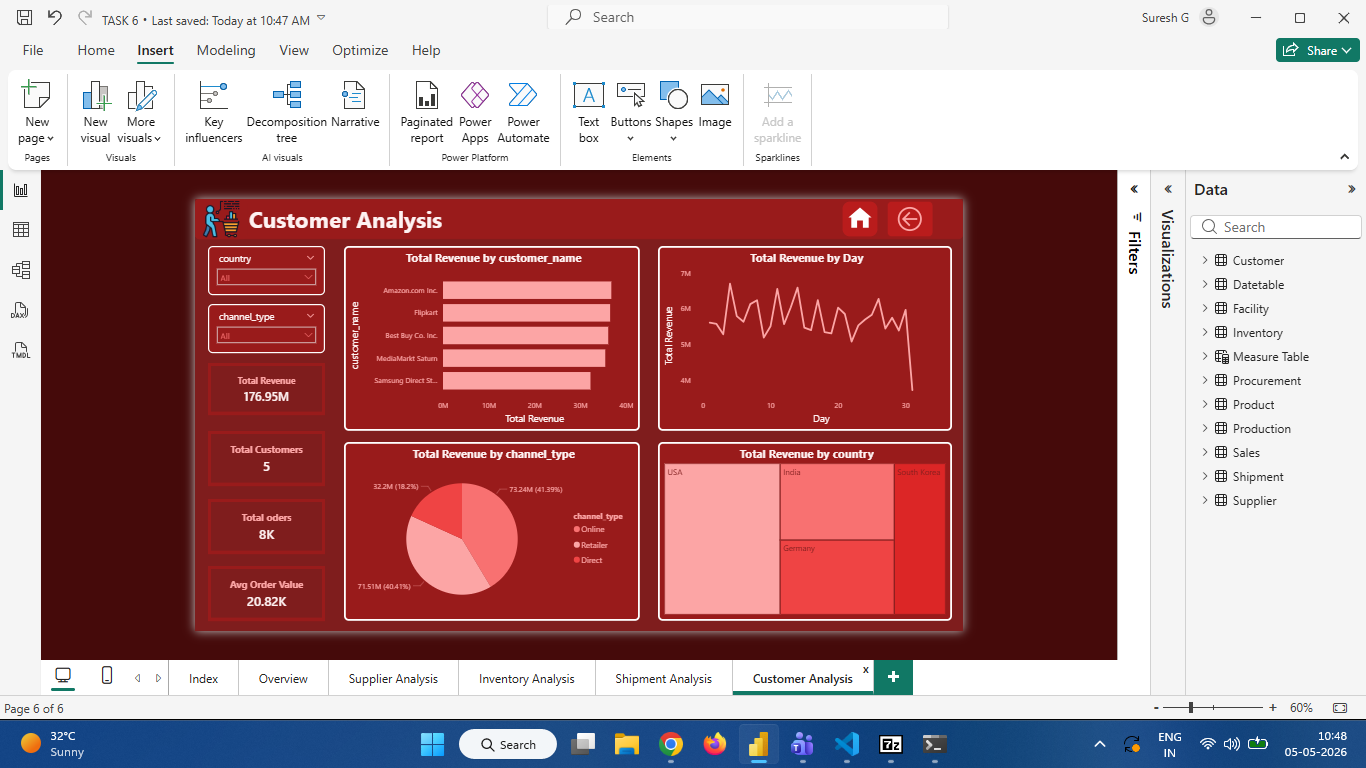

The dashboard page shown, as its layout file describes it:
{"tool":"powerbi","page":{"name":"Customer Analysis","canvas":[1280,720],"ordinal":5},"visuals":[{"type":"textbox","box":[0,0,1280,66.7],"z":0},{"type":"cardVisual","fields":{"Data":["Measure Table.Total Customers"]},"box":[21.7,386.7,195,91.7],"z":1},{"type":"cardVisual","fields":{"Data":["Measure Table.Total oders"]},"box":[21.7,500,195,91.7],"z":2},{"type":"cardVisual","fields":{"Data":["Measure Table.Avg Order Value"]},"box":[21.7,611.7,195,91.7],"z":3},{"type":"clusteredBarChart","fields":{"Category":["Customer.customer_name"],"Y":["Measure Table.Total Revenue"]},"box":[248.3,78.3,493.3,308.3],"z":4},{"type":"pieChart","fields":{"Category":["Customer.channel_type"],"Y":["Measure Table.Total Revenue"]},"box":[248.3,405,493.3,298.3],"z":5},{"type":"lineChart","fields":{"Y":["Measure Table.Total Revenue"],"Category":["Datetable.date.Variation.Date Hierarchy.Year","Datetable.date.Variation.Date Hierarchy.Quarter","Datetable.date.Variation.Date Hierarchy.Month","Datetable.date.Variation.Date Hierarchy.Day"]},"box":[771.7,78.3,490,308.3],"z":6},{"type":"treemap","fields":{"Values":["Measure Table.Total Revenue"],"Group":["Customer.country"]},"box":[771.7,405,490,298.3],"z":7},{"type":"slicer","fields":{"Values":["Customer.country"]},"box":[21.7,78.3,195,81.7],"z":8},{"type":"slicer","fields":{"Values":["Customer.channel_type"]},"box":[21.7,175,195,81.7],"z":9},{"type":"cardVisual","fields":{"Data":["Measure Table.Total Revenue"]},"box":[21.7,273.3,195,86.7],"z":10},{"type":"image","box":[0,0,86.7,66.7],"z":11},{"type":"actionButton","box":[1153.3,3.3,76.7,60],"z":12},{"type":"image","box":[1063.3,3.3,90,60],"z":13}]}

Visuals, with their boxes on the page's 1280x720 design canvas (x1, y1, x2, y2). These are canvas units, not pixel positions in the 1366x768 screenshot, which may show the page scaled, cropped or inside an application window:
textbox: {"x1": 0, "y1": 0, "x2": 1280, "y2": 67}
cardVisual - Measure Table.Total Customers: {"x1": 22, "y1": 387, "x2": 217, "y2": 478}
cardVisual - Measure Table.Total oders: {"x1": 22, "y1": 500, "x2": 217, "y2": 592}
cardVisual - Measure Table.Avg Order Value: {"x1": 22, "y1": 612, "x2": 217, "y2": 703}
clusteredBarChart - Customer.customer_name x Measure Table.Total Revenue: {"x1": 248, "y1": 78, "x2": 742, "y2": 387}
pieChart - Customer.channel_type x Measure Table.Total Revenue: {"x1": 248, "y1": 405, "x2": 742, "y2": 703}
lineChart - Measure Table.Total Revenue x Datetable.date.Variation.Date Hierarchy.Year: {"x1": 772, "y1": 78, "x2": 1262, "y2": 387}
treemap - Measure Table.Total Revenue x Customer.country: {"x1": 772, "y1": 405, "x2": 1262, "y2": 703}
slicer - Customer.country: {"x1": 22, "y1": 78, "x2": 217, "y2": 160}
slicer - Customer.channel_type: {"x1": 22, "y1": 175, "x2": 217, "y2": 257}
cardVisual - Measure Table.Total Revenue: {"x1": 22, "y1": 273, "x2": 217, "y2": 360}
image: {"x1": 0, "y1": 0, "x2": 87, "y2": 67}
actionButton: {"x1": 1153, "y1": 3, "x2": 1230, "y2": 63}
image: {"x1": 1063, "y1": 3, "x2": 1153, "y2": 63}
